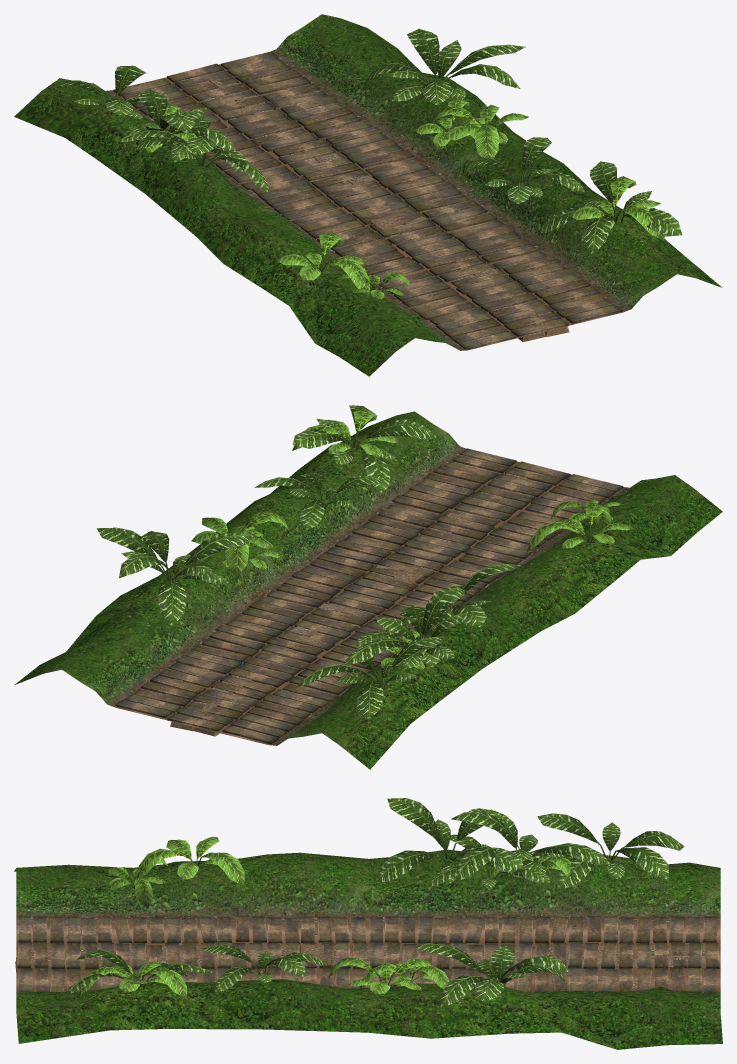
Rendered from runner-game-models--track-road.glb.
3 views of the same model, one above another, from view 1: azimuth 30°, elevation 25°; view 2: azimuth 150°, elevation 25°; view 3: azimuth 270°, elevation 25° (orthographic).
Parts seen in each view (by area): view 1: Track_Segment_DECKS_01, Track_Segment_SAND_02, Track_Segment_DECKS_02, Track_Segment_DECKS_01_VEGETATON, Track_Segment_DECKS_02_VEGETATION, Track_Segment_SAND_02_VEGETATION, Track_Segment_SAND_01, Track_Segment_SAND_01_VEGETATION, Track_Segment_TILES_01_VEGETATON, Track_Segment_TILES_01_STONES, Track_Segment_TILES_01; view 2: Track_Segment_DECKS_01, Track_Segment_SAND_02, Track_Segment_DECKS_02, Track_Segment_DECKS_02_VEGETATION, Track_Segment_DECKS_01_VEGETATON, Track_Segment_SAND_02_VEGETATION, Track_Segment_TILES_01, Track_Segment_TILES_01_VEGETATON, Track_Segment_TILES_01_STONES, Track_Segment_SAND_01_VEGETATION, Track_Segment_SAND_01; view 3: Track_Segment_DECKS_01, Track_Segment_DECKS_02, Track_Segment_DECKS_01_VEGETATON, Track_Segment_DECKS_02_VEGETATION, Track_Segment_SAND_02_VEGETATION, Track_Segment_SAND_02, Track_Segment_SAND_01_VEGETATION, Track_Segment_SAND_01, Track_Segment_TILES_01, Track_Segment_TILES_01_STONES, Track_Segment_TILES_01_VEGETATON.
Part boxes in pixels (box(x1,y1,x2,y2)): Track_Segment_DECKS_01: box(42, 14, 722, 350); Track_Segment_SAND_02: box(14, 14, 694, 376); Track_Segment_DECKS_02: box(113, 51, 620, 349); Track_Segment_DECKS_01_VEGETATON: box(126, 28, 664, 241); Track_Segment_DECKS_02_VEGETATION: box(116, 89, 682, 296); Track_Segment_SAND_02_VEGETATION: box(48, 65, 528, 158); Track_Segment_SAND_01: box(59, 27, 679, 349); Track_Segment_SAND_01_VEGETATION: box(134, 98, 485, 299); Track_Segment_TILES_01_VEGETATON: box(125, 103, 585, 204); Track_Segment_TILES_01_STONES: box(183, 76, 569, 341); Track_Segment_TILES_01: box(107, 28, 638, 349); Track_Segment_DECKS_01: box(15, 411, 674, 745); Track_Segment_SAND_02: box(62, 411, 722, 769); Track_Segment_DECKS_02: box(115, 422, 623, 743); Track_Segment_DECKS_02_VEGETATION: box(292, 405, 633, 669); Track_Segment_DECKS_01_VEGETATON: box(97, 408, 521, 635); Track_Segment_SAND_02_VEGETATION: box(191, 512, 444, 719); Track_Segment_TILES_01: box(75, 423, 600, 744); Track_Segment_TILES_01_VEGETATON: box(254, 471, 424, 669); Track_Segment_TILES_01_STONES: box(170, 473, 533, 736); Track_Segment_SAND_01_VEGETATION: box(194, 500, 621, 667); Track_Segment_SAND_01: box(76, 415, 601, 743); Track_Segment_DECKS_01: box(14, 849, 722, 1049); Track_Segment_DECKS_02: box(16, 853, 720, 1001); Track_Segment_DECKS_01_VEGETATON: box(77, 798, 569, 1008); Track_Segment_DECKS_02_VEGETATION: box(65, 809, 611, 995); Track_Segment_SAND_02_VEGETATION: box(328, 813, 684, 994); Track_Segment_SAND_02: box(16, 850, 720, 1012); Track_Segment_SAND_01_VEGETATION: box(108, 834, 550, 990); Track_Segment_SAND_01: box(16, 852, 720, 1000); Track_Segment_TILES_01: box(16, 853, 720, 1004); Track_Segment_TILES_01_STONES: box(15, 925, 705, 987); Track_Segment_TILES_01_VEGETATON: box(204, 856, 571, 992).
Bounding box in the file's own units: 10.29 × 2.23 × 16.11.
Materials: 11 (11 with a texture image).
